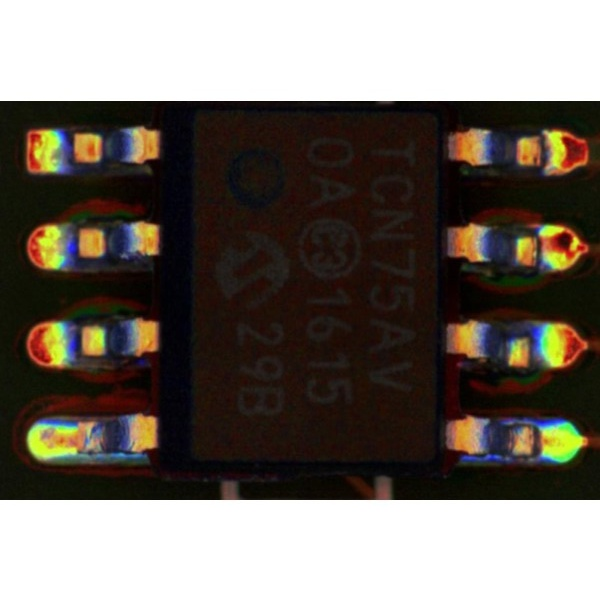Bad_podu: (56, 428, 98, 448), (520, 428, 551, 450)
Bad_qiaojiao: (521, 235, 552, 256)
